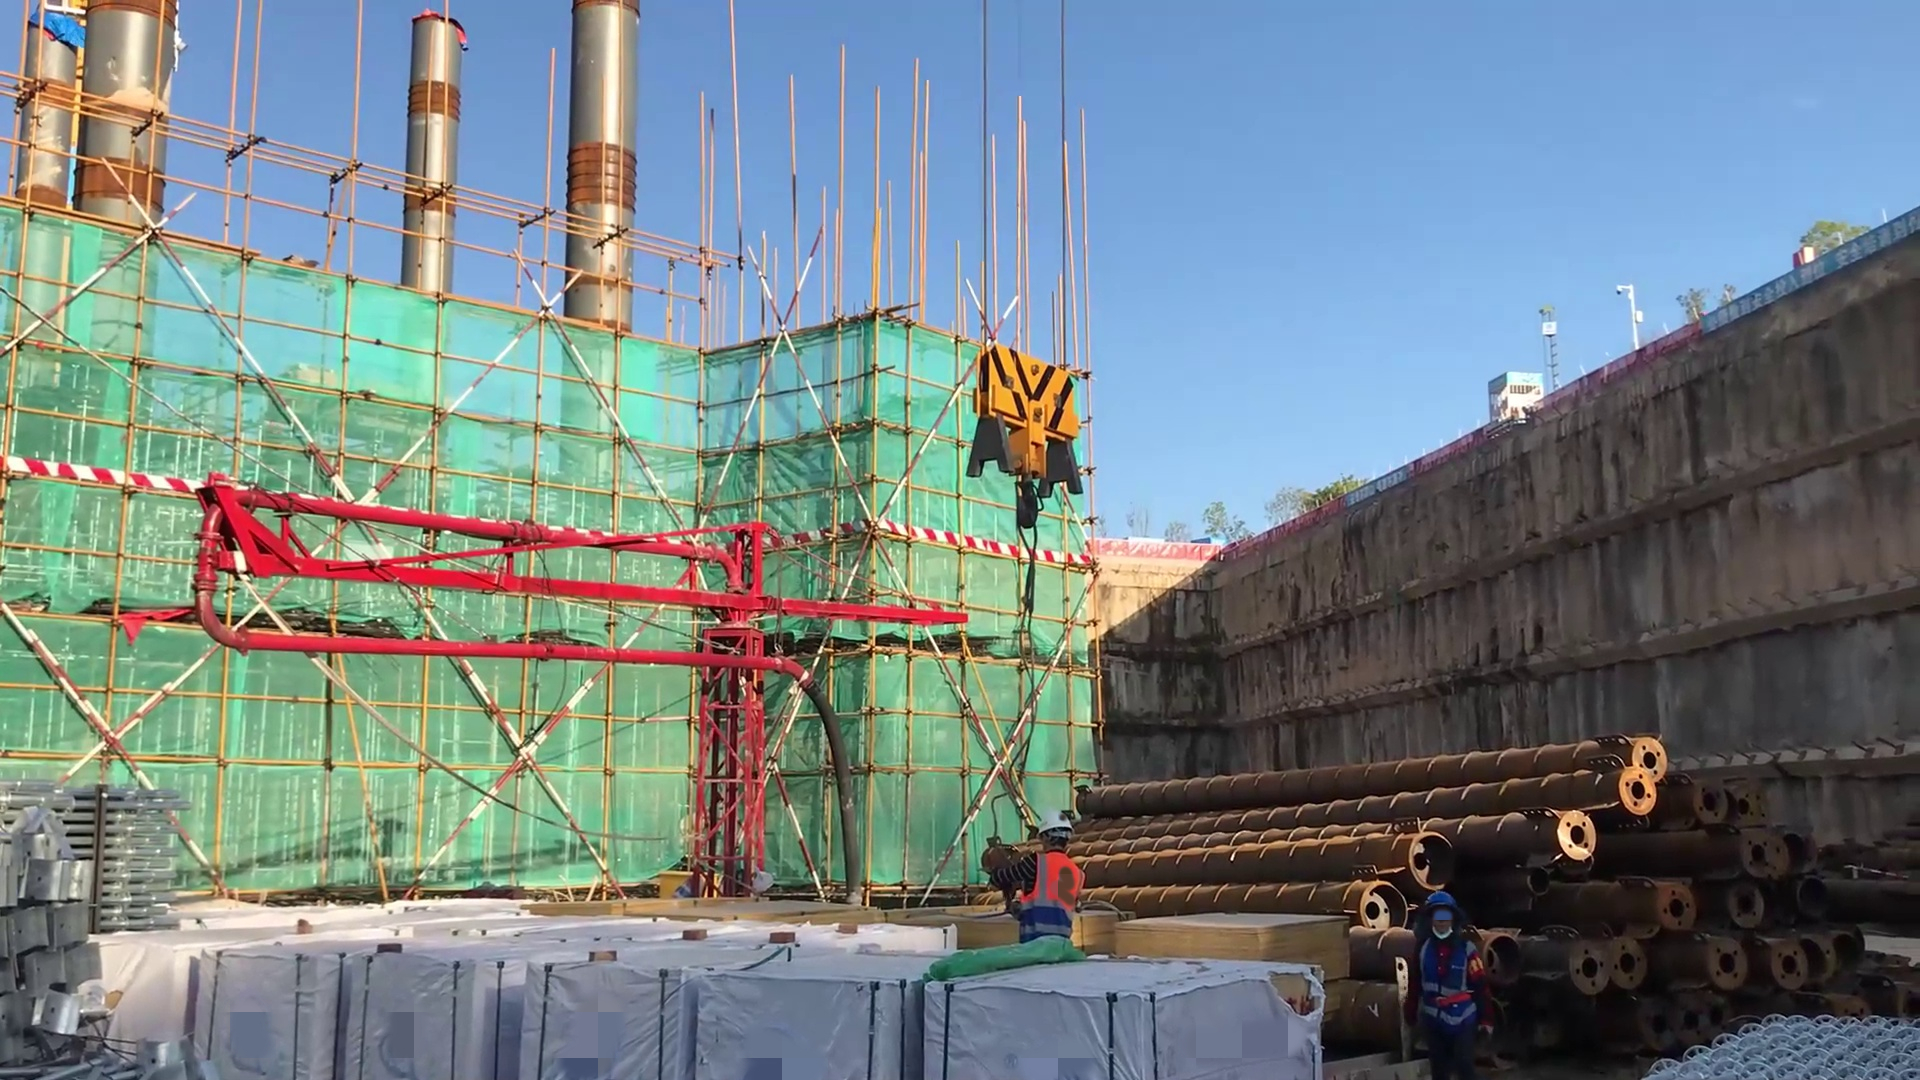board: (1113, 902, 1355, 995), (1066, 905, 1138, 958)
ebox: (650, 859, 734, 902)
helmet: (1424, 889, 1463, 941), (1032, 813, 1075, 858)
hook: (959, 342, 1108, 594)
person: (1403, 887, 1498, 1080), (980, 812, 1093, 971)
scaffold: (52, 781, 198, 945)
slogan: (1695, 196, 1920, 351), (1345, 457, 1441, 521)
vest: (1007, 848, 1085, 949), (1409, 938, 1480, 1029)
